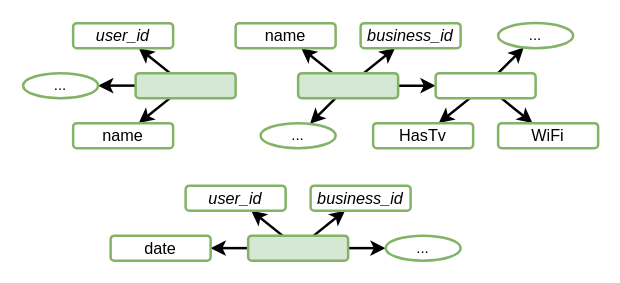
The diagram is 620 pixels wide and 283 high, and some of its shapes have lost their labels. The centre of each missing label's shape, as x and y in pixels:
"attributes" belongs at [485,85].
"Business" belongs at [347,85].
"Tip" belongs at [297,247].
"User" belongs at [185,85].
